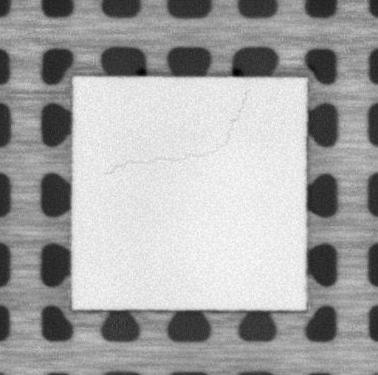DIE_CRACK: (105, 89, 257, 173)
